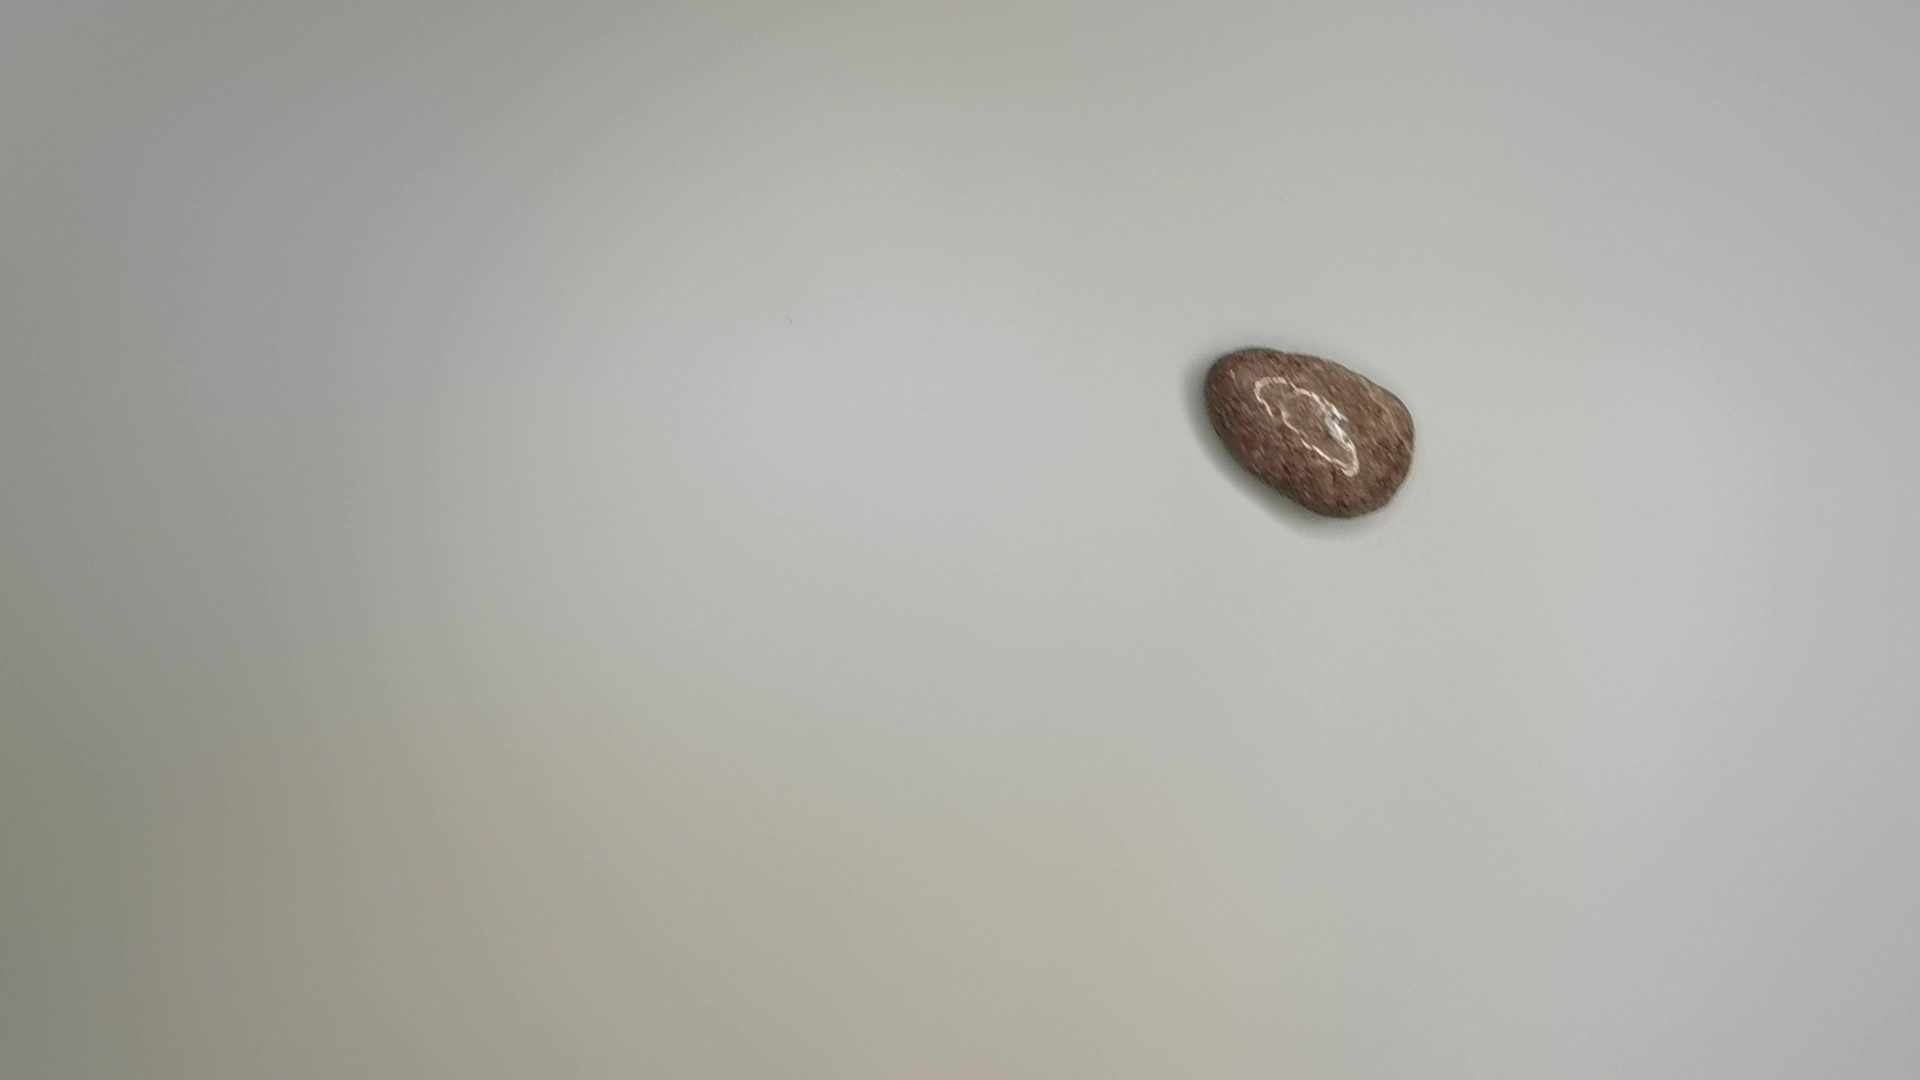ceramic: (1196, 343, 1418, 513)
